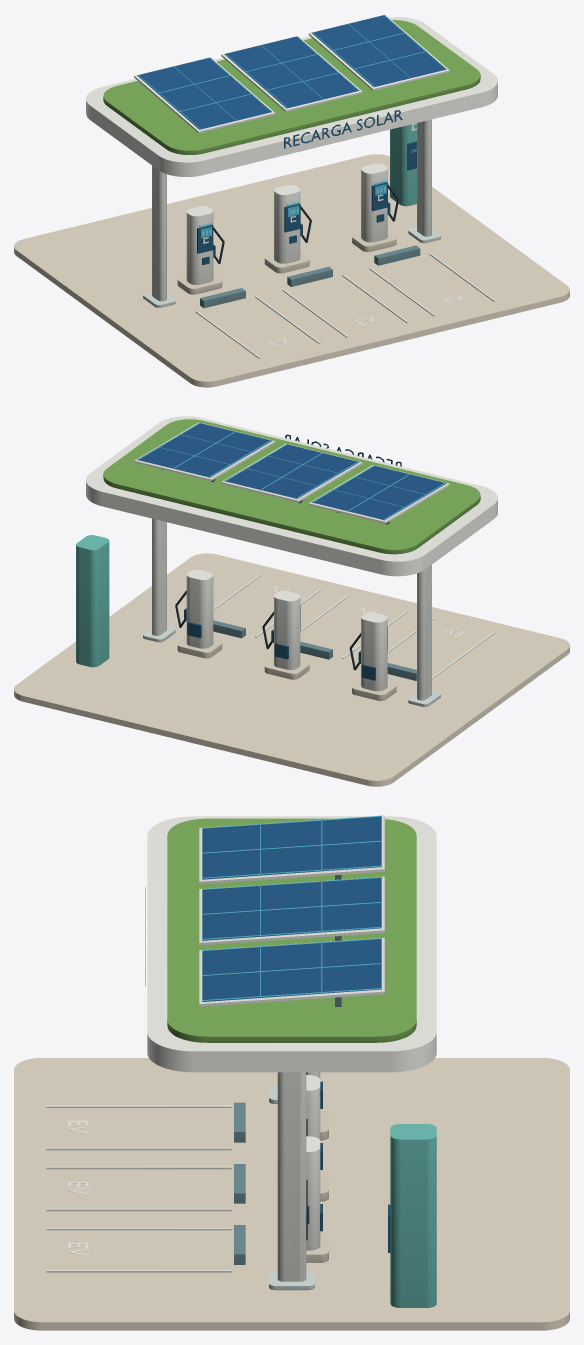
The model's file is fuel-station.glb.
3 views of the same model, one above another, from view 1: azimuth 30°, elevation 25°; view 2: azimuth 150°, elevation 25°; view 3: azimuth 270°, elevation 25° (orthographic). The views are drawn at different scales.
Parts seen in each view (by area): view 1: charging forecourt, charging roof column, photovoltaic cells, canopy green inset, charging face, solar cell division, energy totem, panel foot, column footing; view 2: charging forecourt, charging roof column, canopy green inset, photovoltaic cells, energy totem, solar cell division, panel foot, charging face, column footing; view 3: charging forecourt, charging roof column, photovoltaic cells, canopy green inset, energy totem, solar cell division, panel foot, column footing.
Boxes of the visible parts, bbox=[...] form: charging forecourt: bbox=[14, 154, 569, 387]; charging roof column: bbox=[86, 14, 497, 358]; photovoltaic cells: bbox=[137, 15, 446, 129]; canopy green inset: bbox=[103, 20, 480, 154]; charging face: bbox=[197, 110, 416, 264]; solar cell division: bbox=[137, 15, 445, 238]; energy totem: bbox=[390, 124, 416, 206]; panel foot: bbox=[200, 245, 420, 308]; column footing: bbox=[143, 227, 440, 307]; charging forecourt: bbox=[14, 553, 569, 786]; charging roof column: bbox=[86, 416, 497, 700]; canopy green inset: bbox=[103, 419, 480, 554]; photovoltaic cells: bbox=[137, 423, 446, 520]; energy totem: bbox=[76, 535, 109, 667]; solar cell division: bbox=[138, 422, 445, 520]; panel foot: bbox=[162, 469, 416, 680]; charging face: bbox=[184, 434, 401, 680]; column footing: bbox=[143, 626, 440, 706]; charging forecourt: bbox=[14, 1058, 569, 1330]; charging roof column: bbox=[46, 815, 436, 1281]; photovoltaic cells: bbox=[202, 815, 381, 1001]; canopy green inset: bbox=[167, 818, 416, 1042]; energy totem: bbox=[390, 1124, 436, 1307]; solar cell division: bbox=[202, 815, 381, 1001]; panel foot: bbox=[234, 874, 341, 1264]; column footing: bbox=[269, 1085, 314, 1290].
Bounding box in the file's own units: 5.4 × 2.82 × 4.8.
